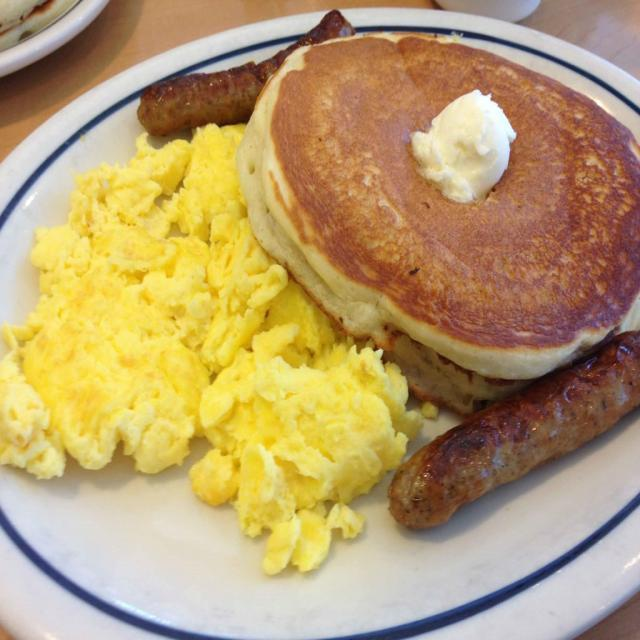Pancake: (235, 73, 509, 401), (392, 350, 466, 415)
